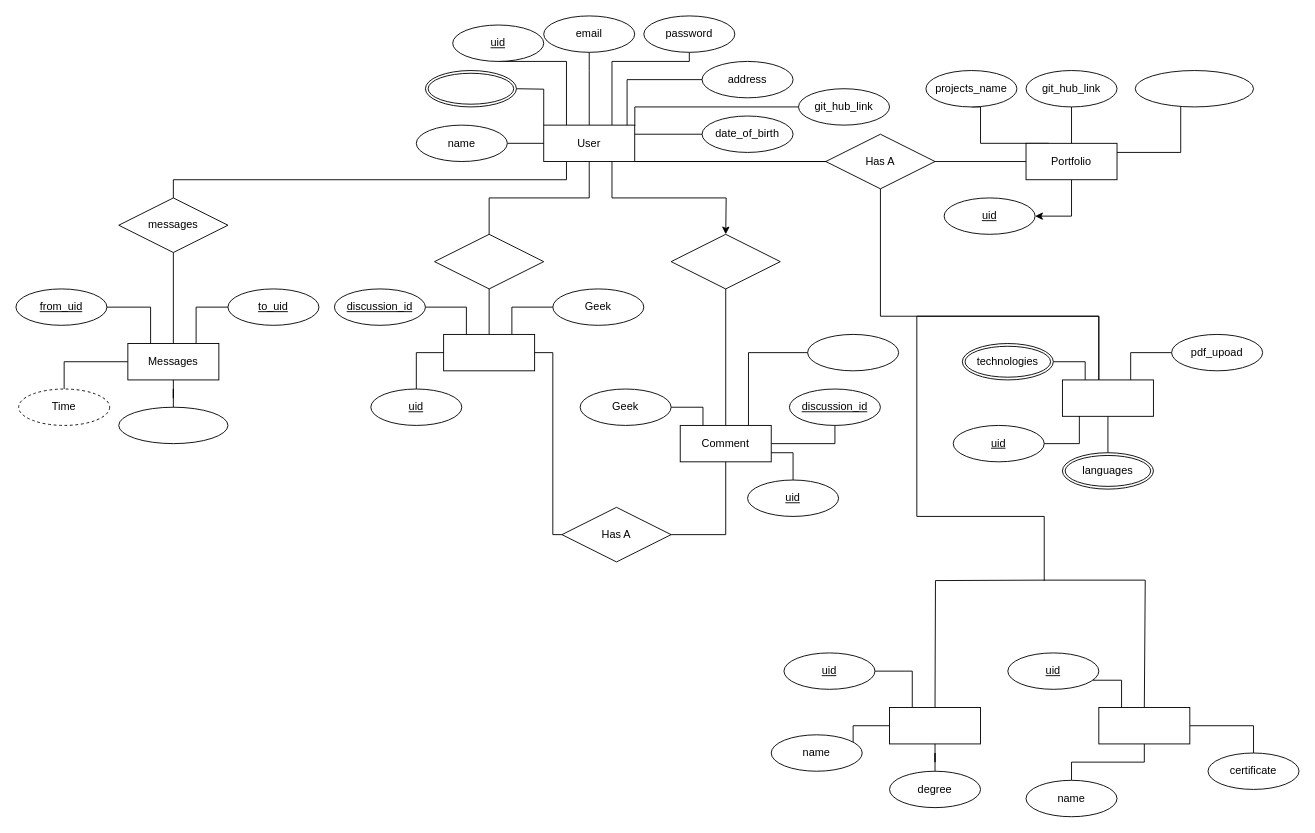
Image size: 1315x833. Some labels were removed from this diagram. The centre of each missing label's shape, as x and y in pixels:
basic_info: point 1107,397
comment_content: point 853,352
Comments: point 725,261
Discussion: point 489,352
message_content: point 173,425
phone_number: point 470,88
Posts: point 489,261
project_description: point 1194,88
training: point 1144,725
university: point 935,725
